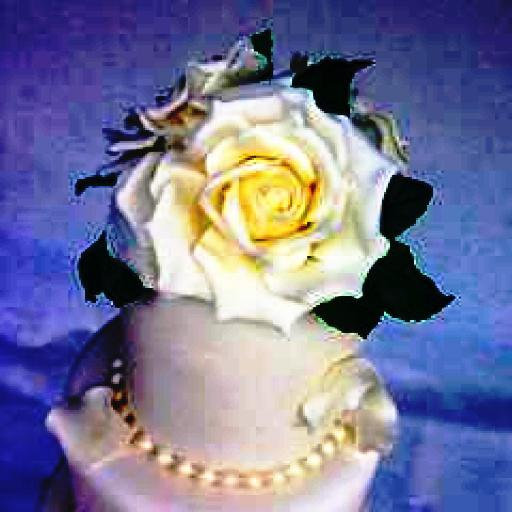rose: (84, 38, 406, 328)
